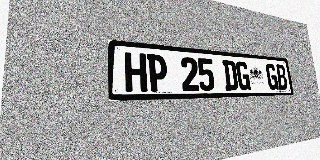2: (180, 57, 199, 91)
5: (197, 58, 215, 91)
B: (275, 64, 288, 90)
D: (222, 60, 239, 91)
G: (235, 61, 251, 90), (265, 63, 279, 90)
H: (124, 52, 147, 92)
P: (147, 54, 168, 92)
